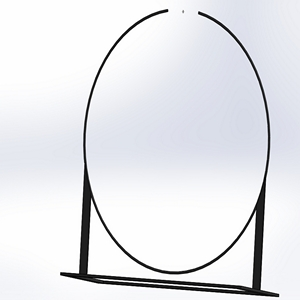circle: (59, 5, 281, 298)
